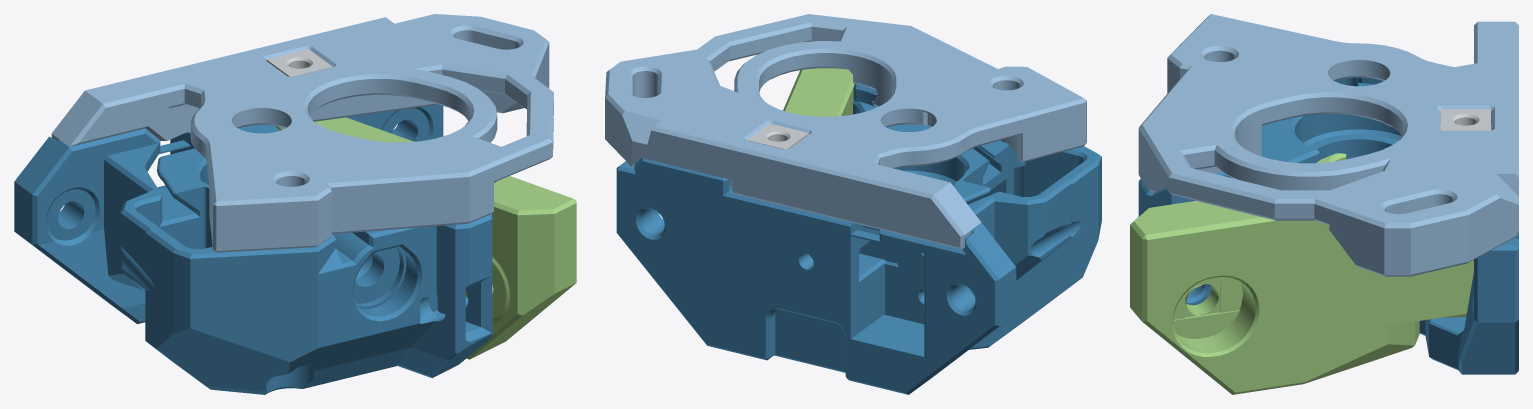
File: A4T - WW-BMG - Sensor - Crossbow.gltf
3 views of the same model, side by side, from view 1: azimuth 30°, elevation 25°; view 2: azimuth 150°, elevation 25°; view 3: azimuth 270°, elevation 25° (orthographic). The views are drawn at different scales.
Parts seen in each view (by area): view 1: A4T - WWBMG - Main_Body [Sherpa-Mini spacing] Dual Sensor - , A4T - WWBMG - Motor_Plate - Dual Sensor, A4T - WWBMG - Beefy_Tension_Arm - Smooth_Idler, Square thin nut grade B M3x0.5; view 2: A4T - WWBMG - Main_Body [Sherpa-Mini spacing] Dual Sensor - , A4T - WWBMG - Motor_Plate - Dual Sensor, A4T - WWBMG - Beefy_Tension_Arm - Smooth_Idler, Square thin nut grade B M3x0.5; view 3: A4T - WWBMG - Motor_Plate - Dual Sensor, A4T - WWBMG - Beefy_Tension_Arm - Smooth_Idler, A4T - WWBMG - Main_Body [Sherpa-Mini spacing] Dual Sensor - , Square thin nut grade B M3x0.5.
Part boxes in pixels (x1=…): A4T - WWBMG - Main_Body [Sherpa-Mini spacing] Dual Sensor - : x1=14, y1=104, x2=492, y2=394; A4T - WWBMG - Motor_Plate - Dual Sensor: x1=51, y1=14, x2=553, y2=252; A4T - WWBMG - Beefy_Tension_Arm - Smooth_Idler: x1=275, y1=117, x2=576, y2=359; Square thin nut grade B M3x0.5: x1=266, y1=49, x2=332, y2=76; A4T - WWBMG - Main_Body [Sherpa-Mini spacing] Dual Sensor - : x1=616, y1=84, x2=1101, y2=394; A4T - WWBMG - Motor_Plate - Dual Sensor: x1=605, y1=14, x2=1086, y2=249; A4T - WWBMG - Beefy_Tension_Arm - Smooth_Idler: x1=783, y1=68, x2=854, y2=116; Square thin nut grade B M3x0.5: x1=747, y1=123, x2=808, y2=149; A4T - WWBMG - Motor_Plate - Dual Sensor: x1=1138, y1=14, x2=1518, y2=276; A4T - WWBMG - Beefy_Tension_Arm - Smooth_Idler: x1=1130, y1=153, x2=1473, y2=394; A4T - WWBMG - Main_Body [Sherpa-Mini spacing] Dual Sensor - : x1=1138, y1=77, x2=1518, y2=374; Square thin nut grade B M3x0.5: x1=1440, y1=109, x2=1490, y2=130.
Size of the model in its own units: 0.0615 by 0.0276 by 0.0423.
